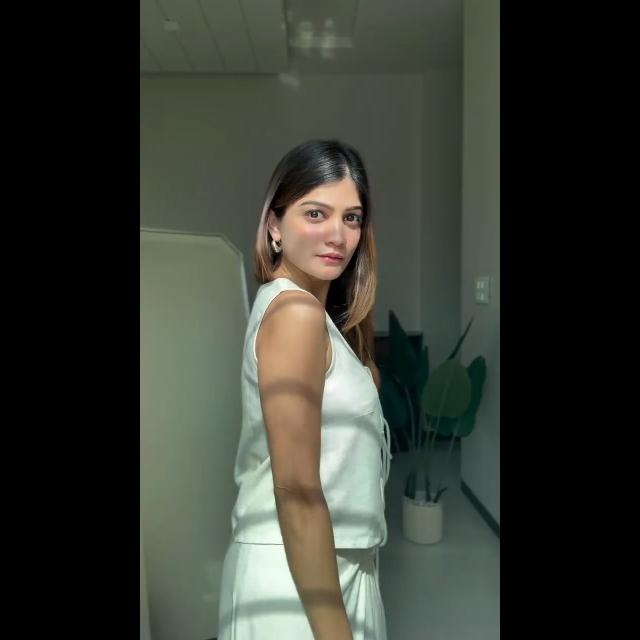dress: (238, 283, 389, 639)
ear ring: (268, 241, 282, 251)
